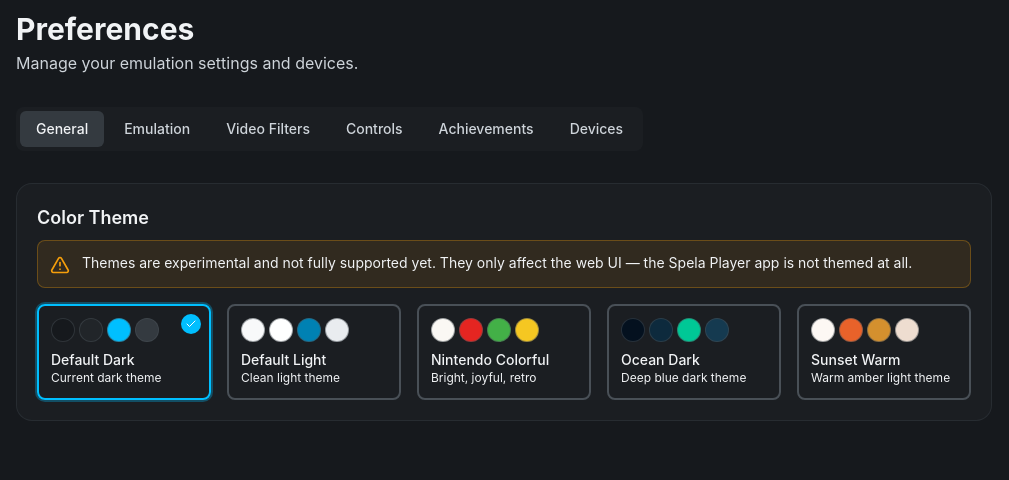
it: PreferencesPage › cancels device rename on Escape
Click the tab "Devices" at (596, 129), box [554,111,639,147]
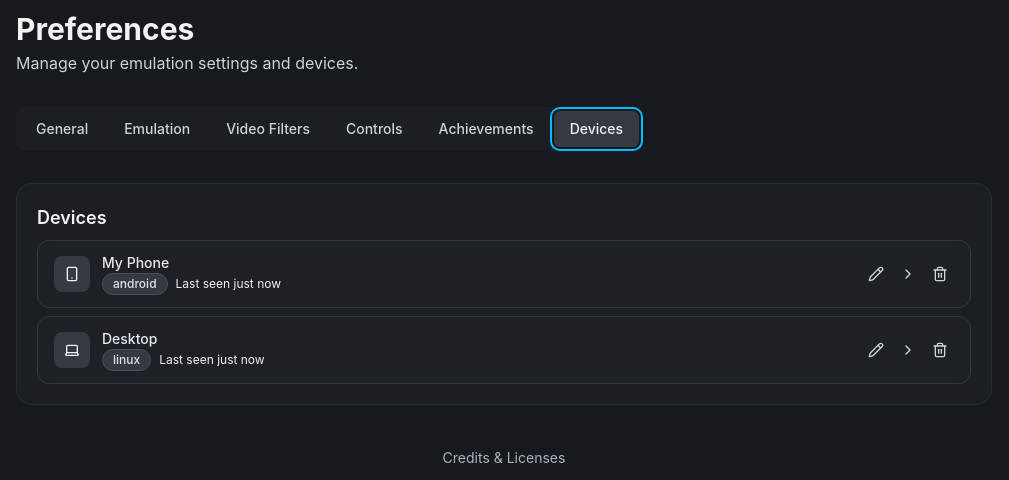
Click the button titled "Rename device" in the row of "My Phone" at (876, 274), box [862,260,890,288]
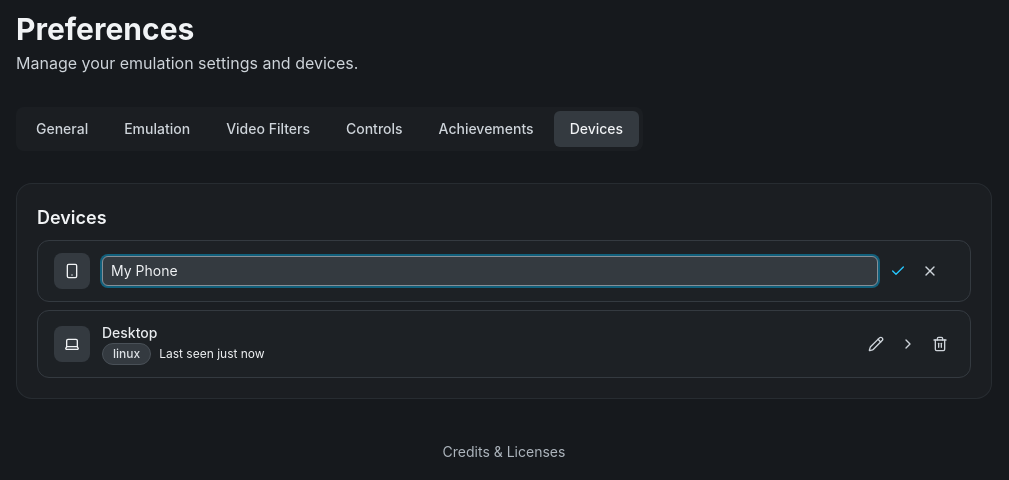
expect the field showing "My Phone" is shown: met, box [102,256,878,286]
Press Escape
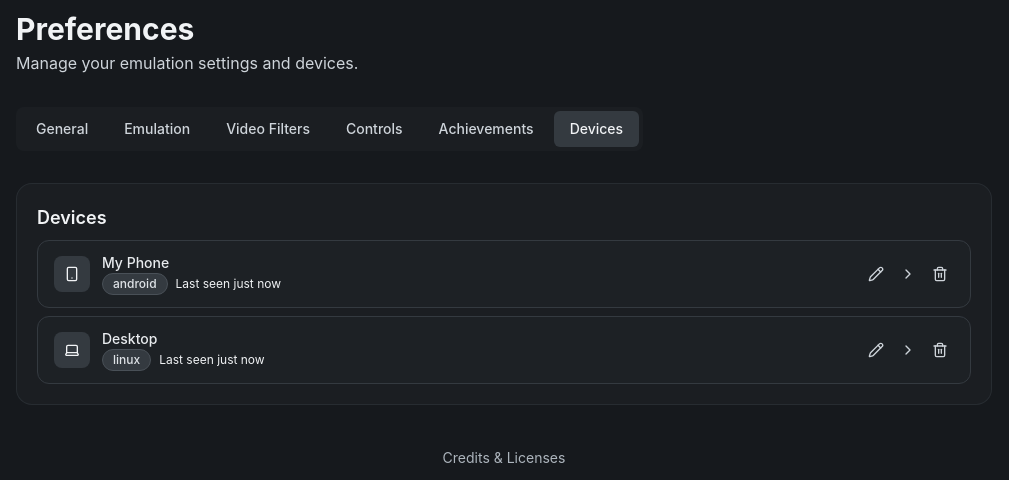
expect the text "My Phone" is shown: met, box [102,254,169,271]
